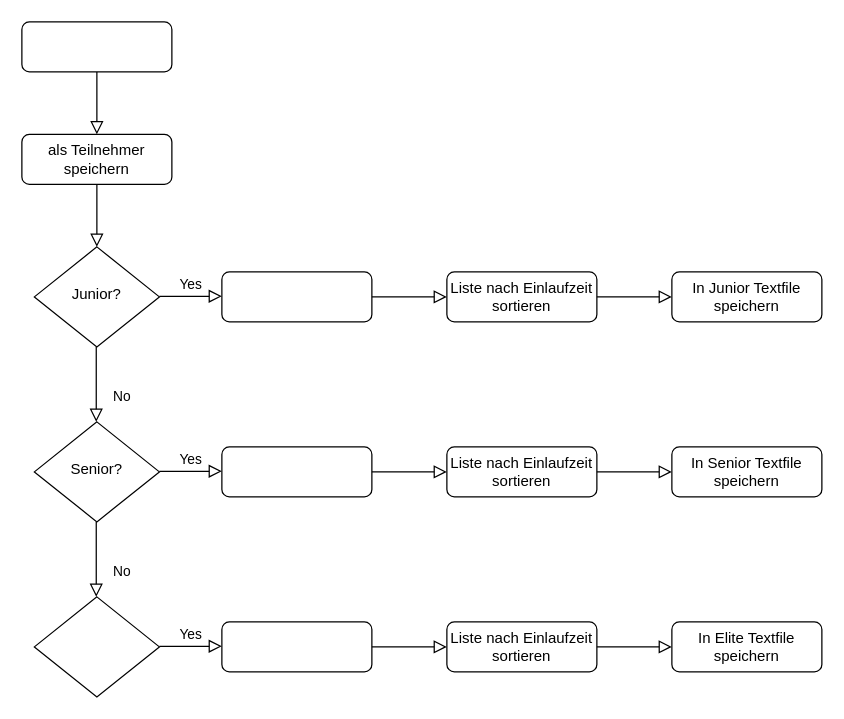
Image size: 844x719. Some labels were removed from this diagram. Here are the shapes that lost their labels. From the top down, the centre of each, then its label:
point 96,46: Dateneinlesen
point 296,296: In Junior Liste speichern
point 296,471: In Senior Liste speichern
point 96,646: Elite?
point 296,646: In Elite Liste speichern
